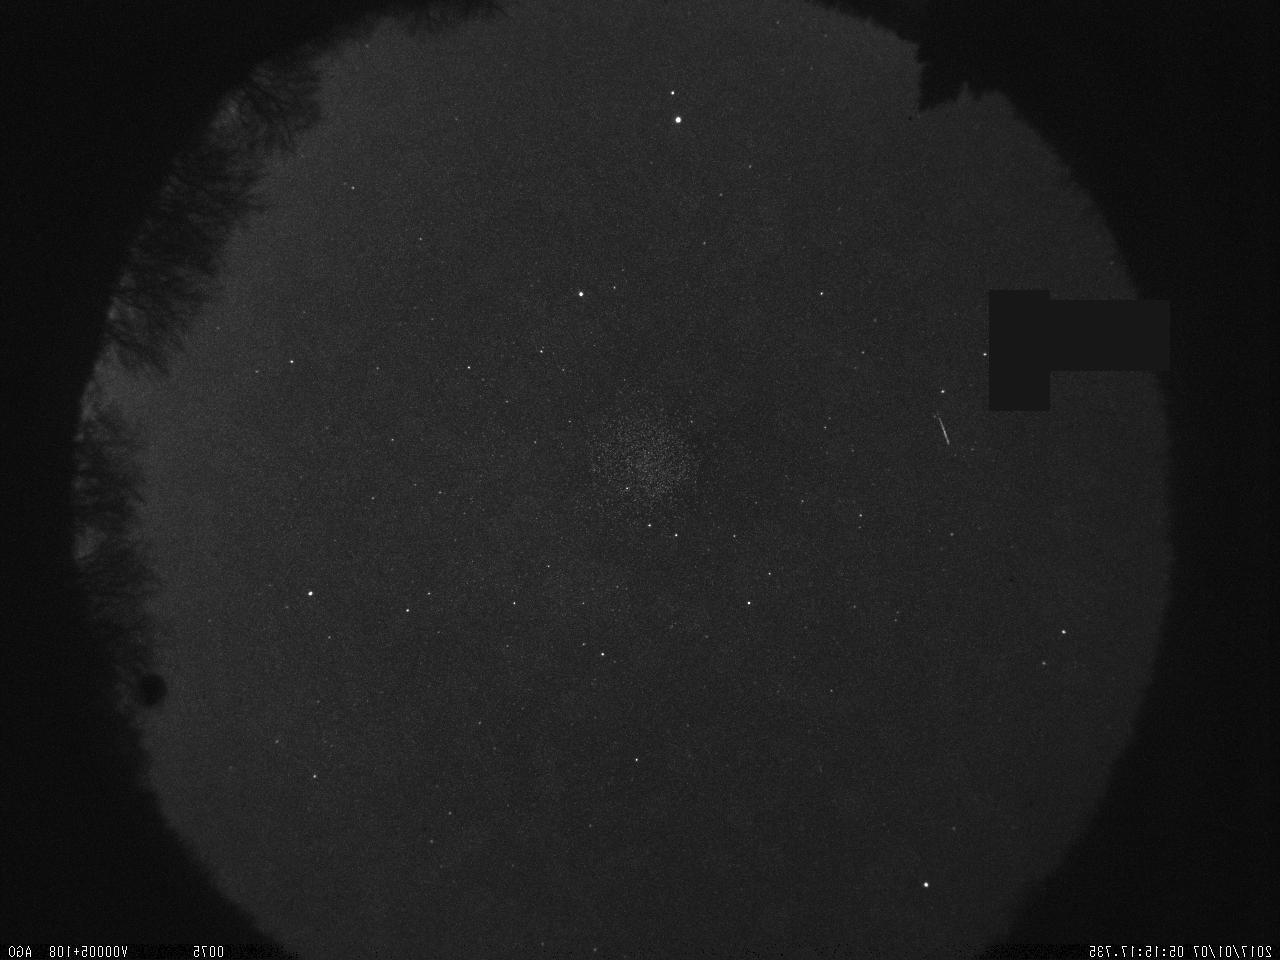meteor: (924, 401, 959, 464)
